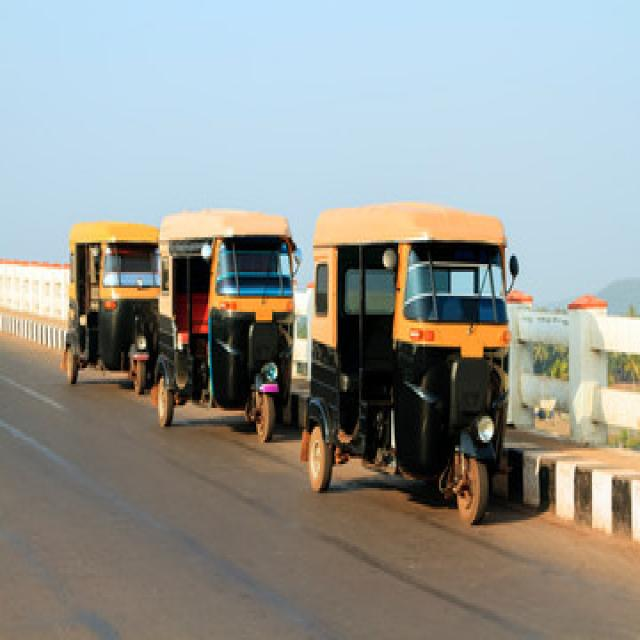three wheeler: (308, 203, 514, 523), (156, 208, 293, 440), (64, 221, 156, 392)
